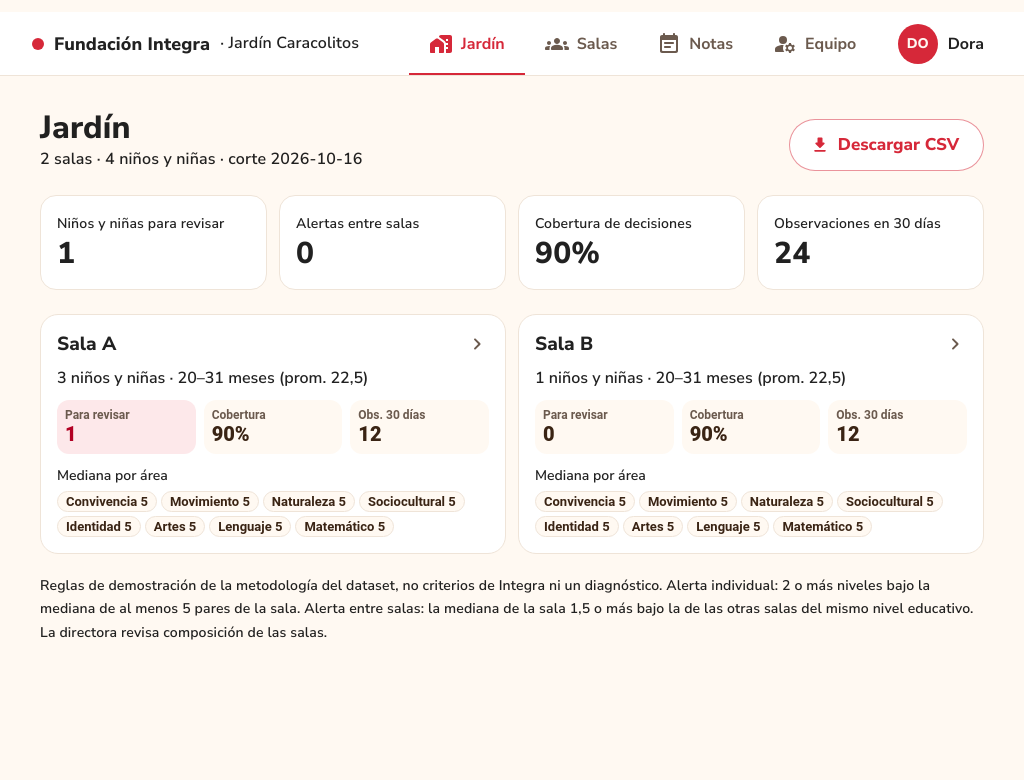
Scenario: vista de la directora › entra al jardín con todas las salas y abre una sala
Expected: the text "1" below "Niños y niñas para revisar" is shown, [57,233,75,274]
Click the button with aria-label "Ver Sala B" at (751, 434), box [518,314,984,554]
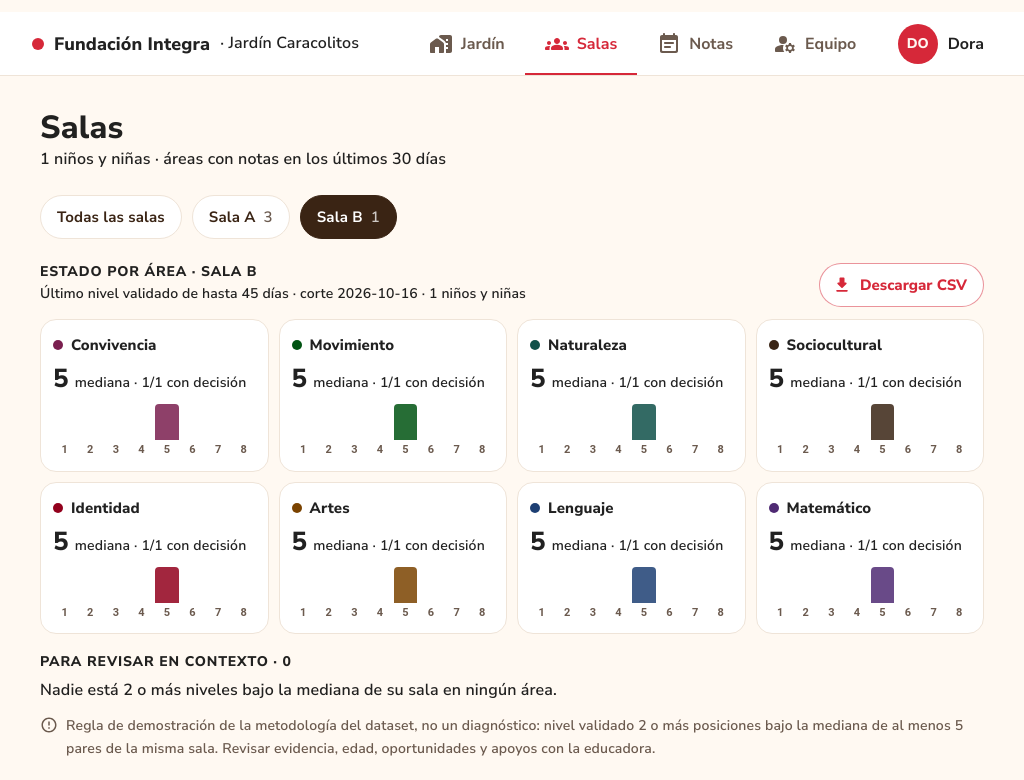
Now the element named "Estado de Sala B" is shown
